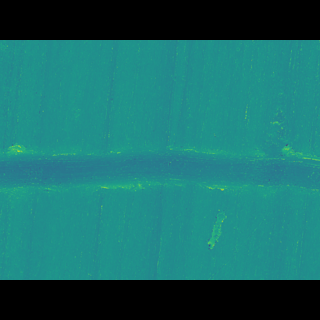Loch: (0, 142, 320, 189)
